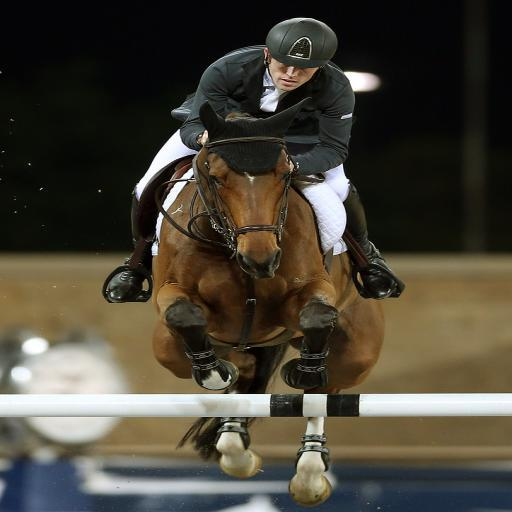horse: (150, 96, 386, 506)
